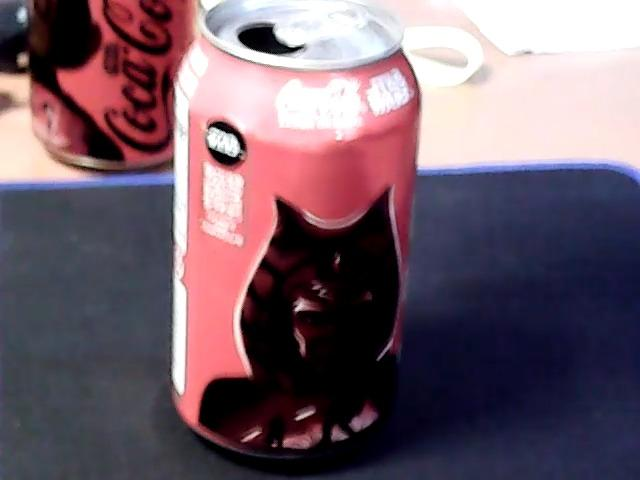coke: (172, 2, 421, 465), (24, 1, 199, 173)
